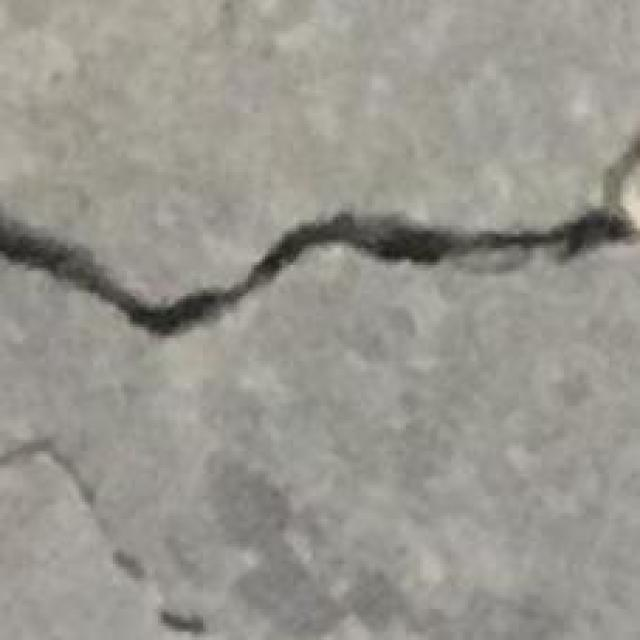diagonal crack: (0, 448, 147, 581)
horizontal crack: (8, 161, 632, 341), (150, 608, 227, 640)
